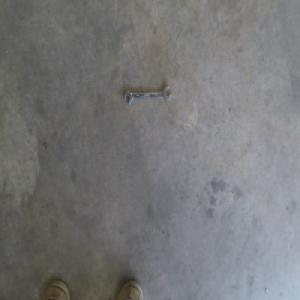Wrench: (123, 85, 172, 105)
